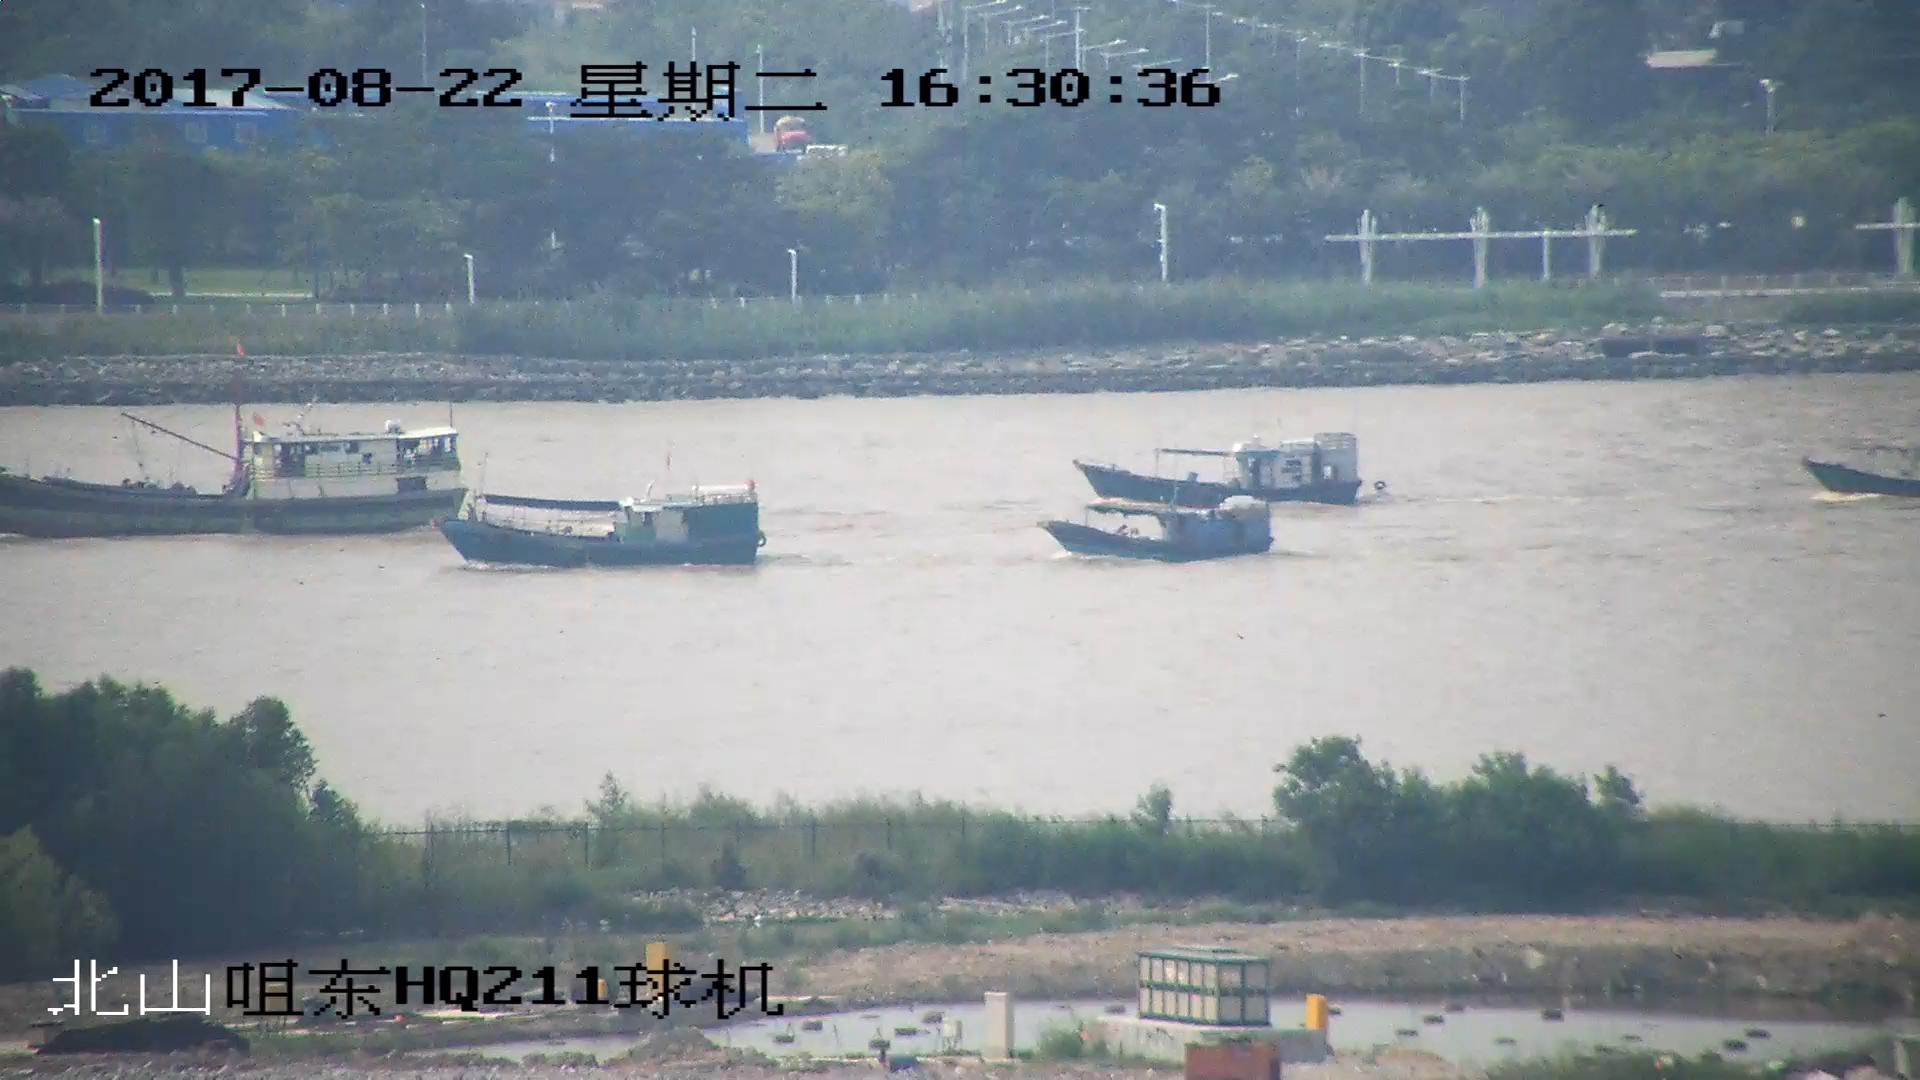fishing boat: (1, 346, 474, 533), (431, 469, 767, 574), (1072, 429, 1363, 508), (1048, 499, 1270, 565), (1802, 444, 1920, 499)
